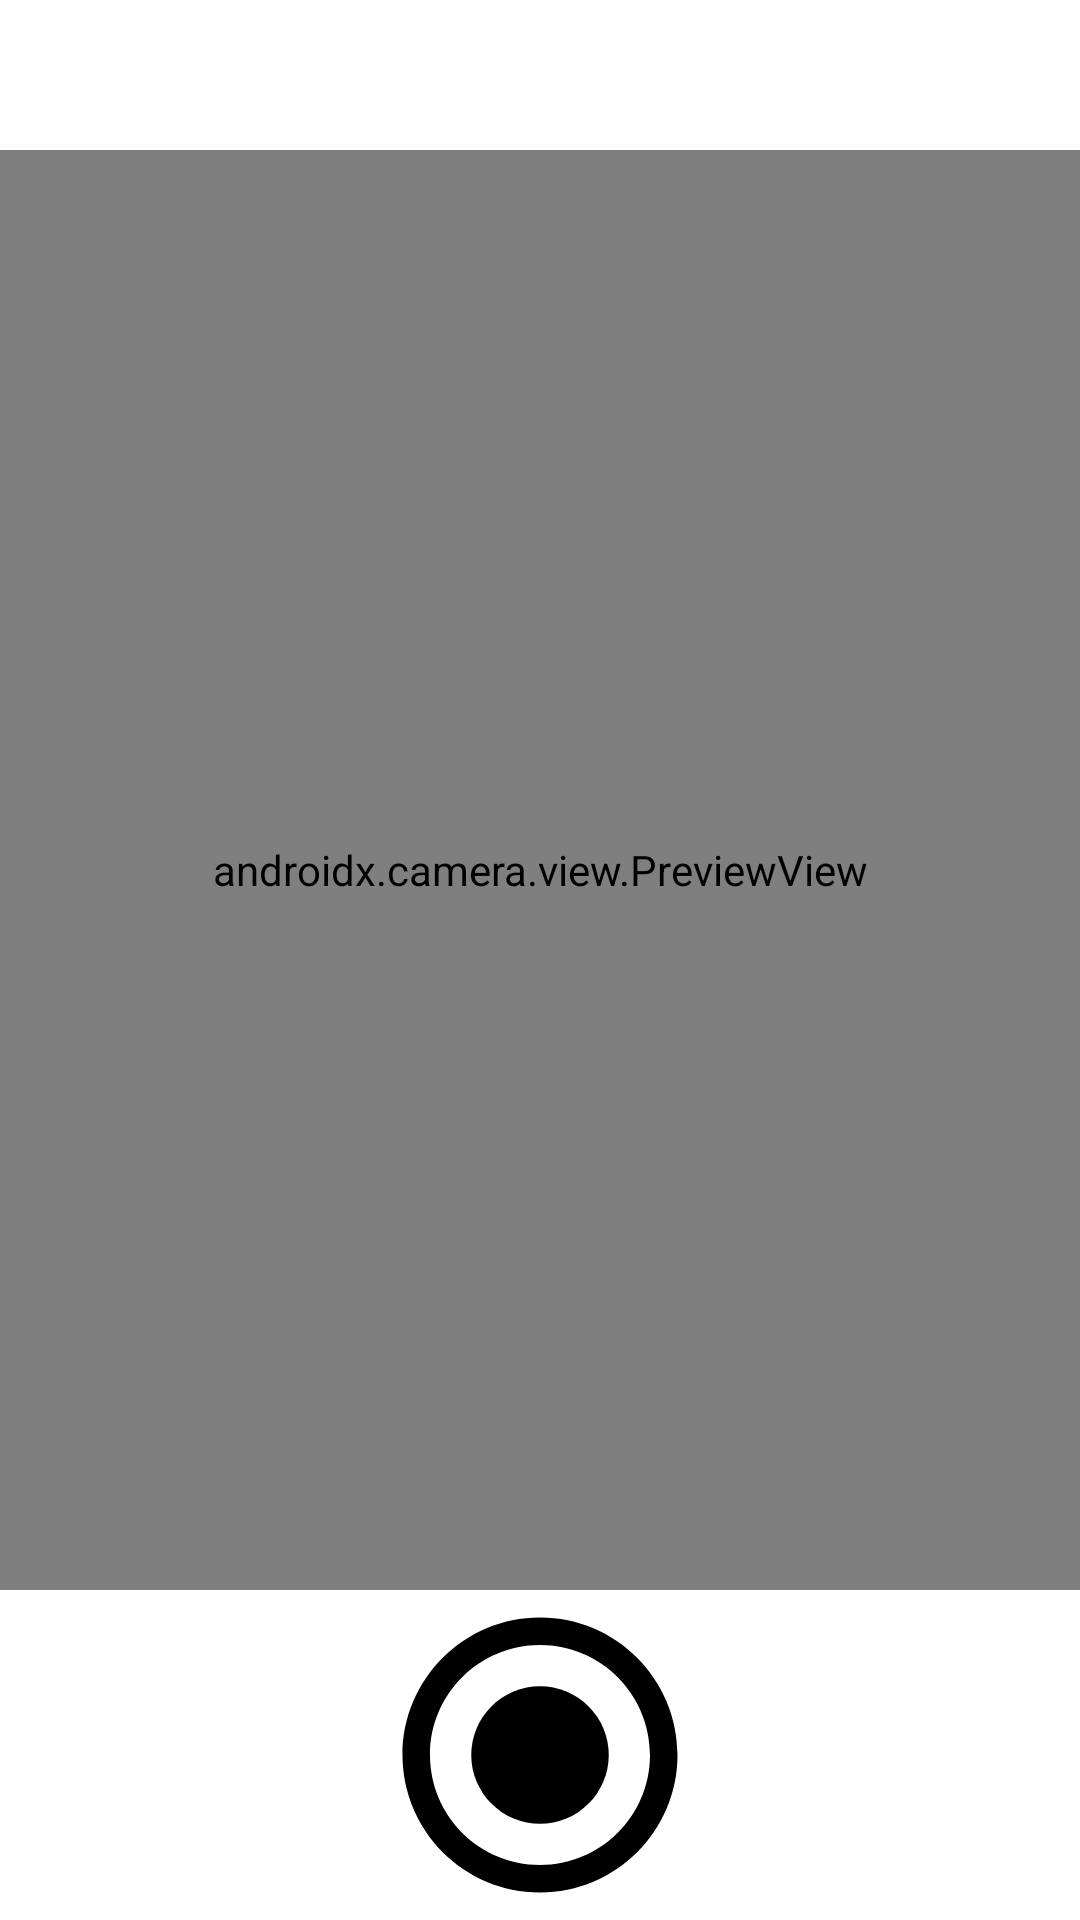

Where icons sit on this 1080×1920 app screen, as (x1, y1, x2, y2):
radio checked: (402, 1617, 678, 1893)
